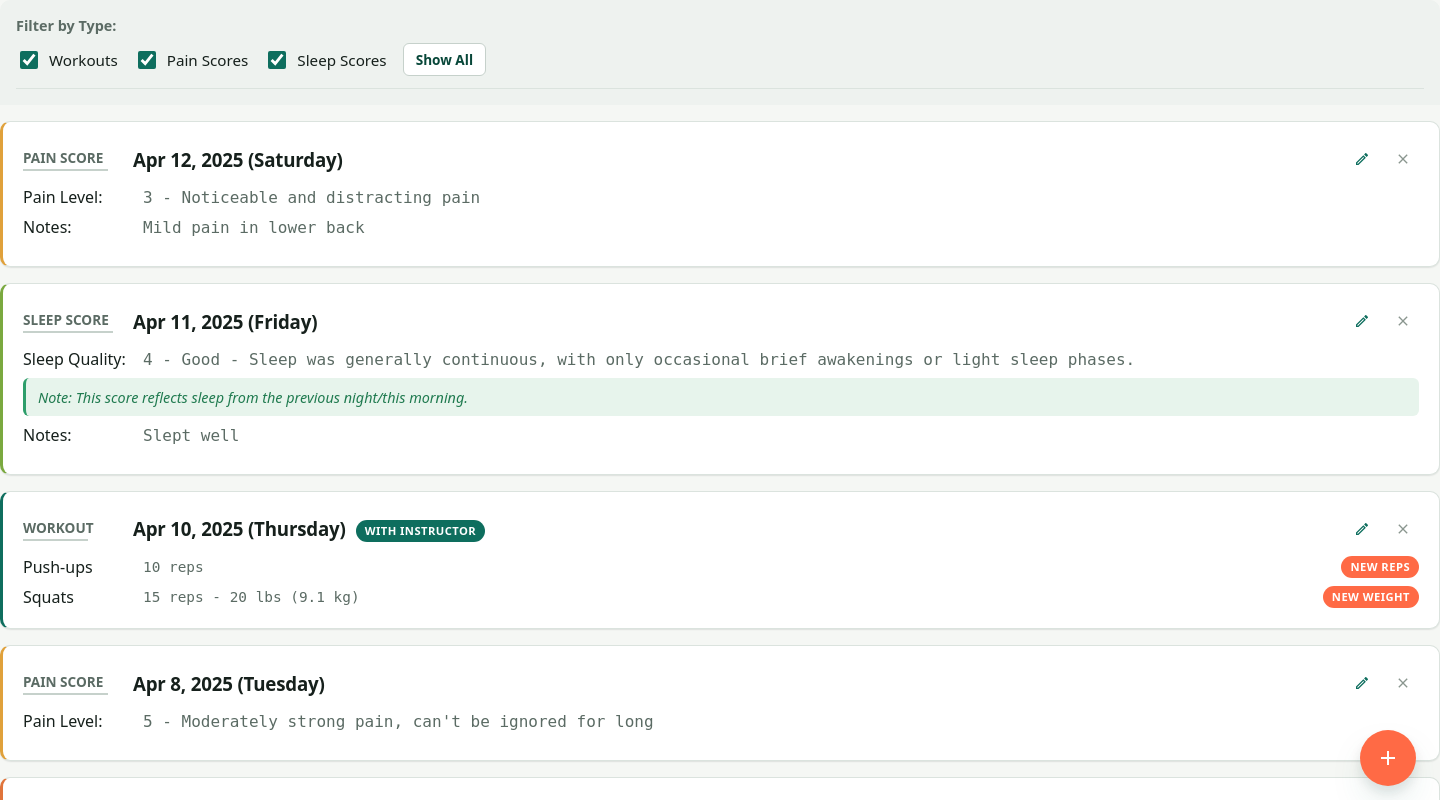
Test: ListView › handles pain score deletion
Check: the heading "Apr 12, 2025 (Saturday)" is shown, box 133,146 -> 343,172
Note: Click the first delete button — opens the confirm modal
Click the button titled "Delete pain score" in the row of "Apr 12, 2025 (Saturday)" at (1403, 159), box 1387,143 -> 1419,175
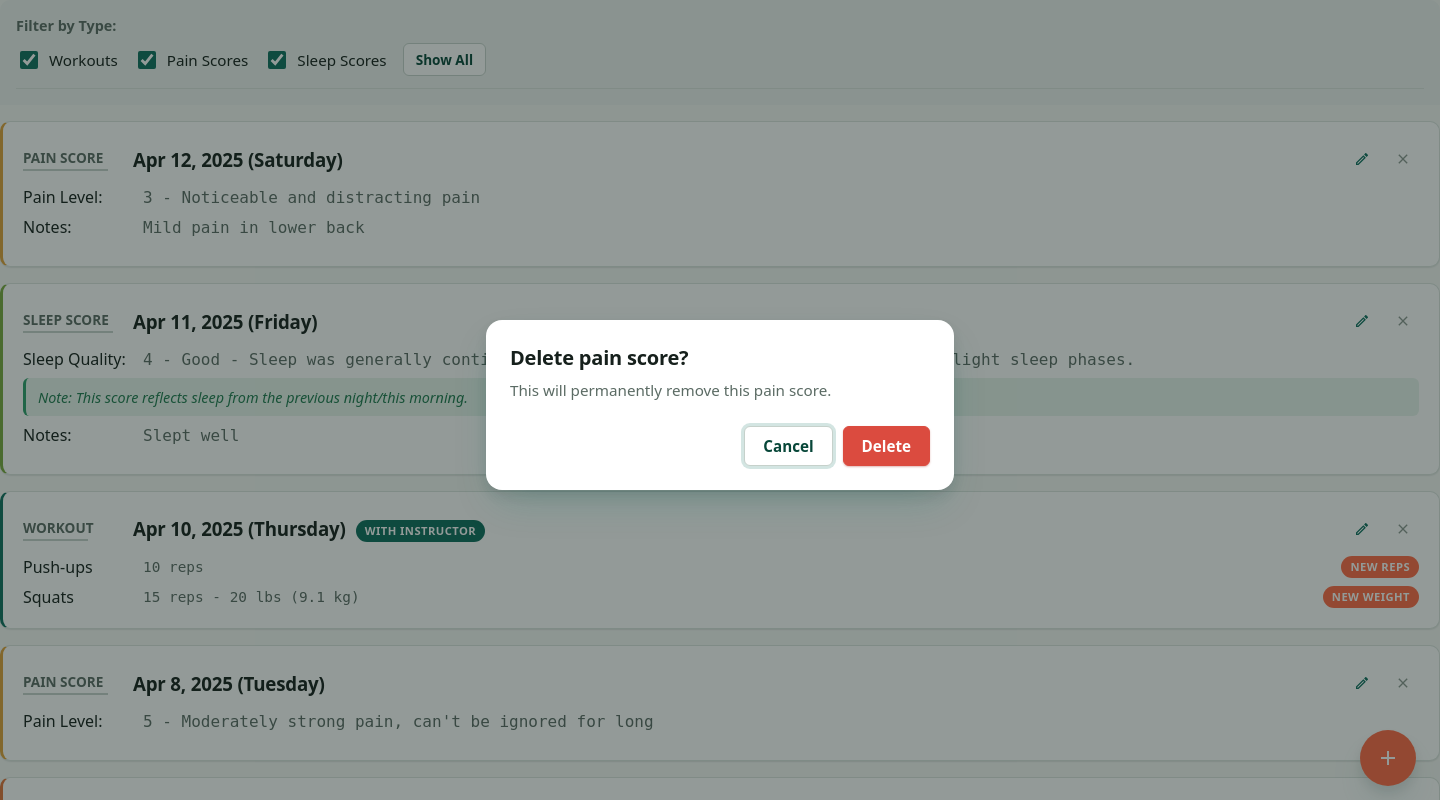
Note: Confirm in the modal
Click the button "Delete" at (886, 446), box 843,426 -> 930,466
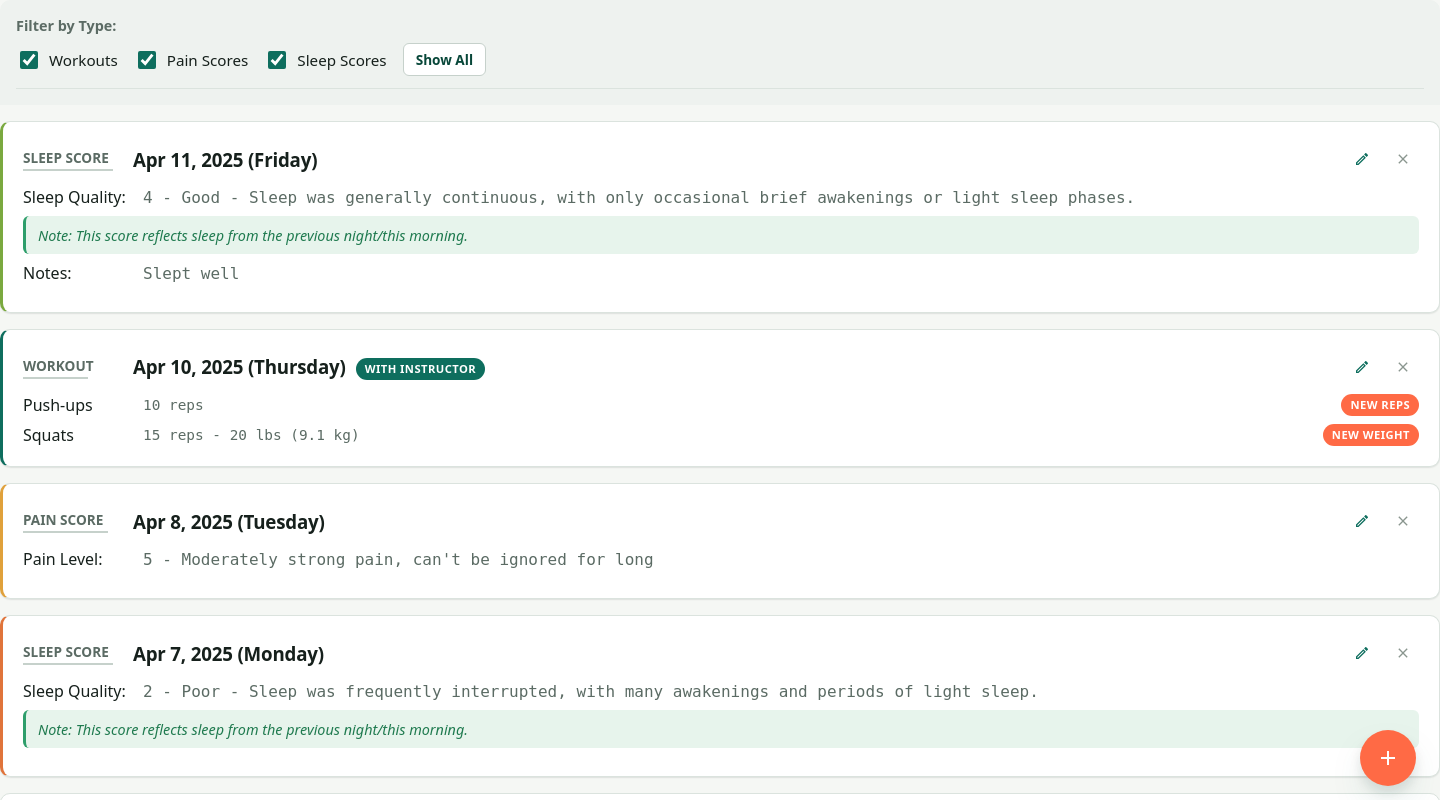
Check: the number of buttons titled "Delete pain score" is 1, box 1387,505 -> 1419,537
